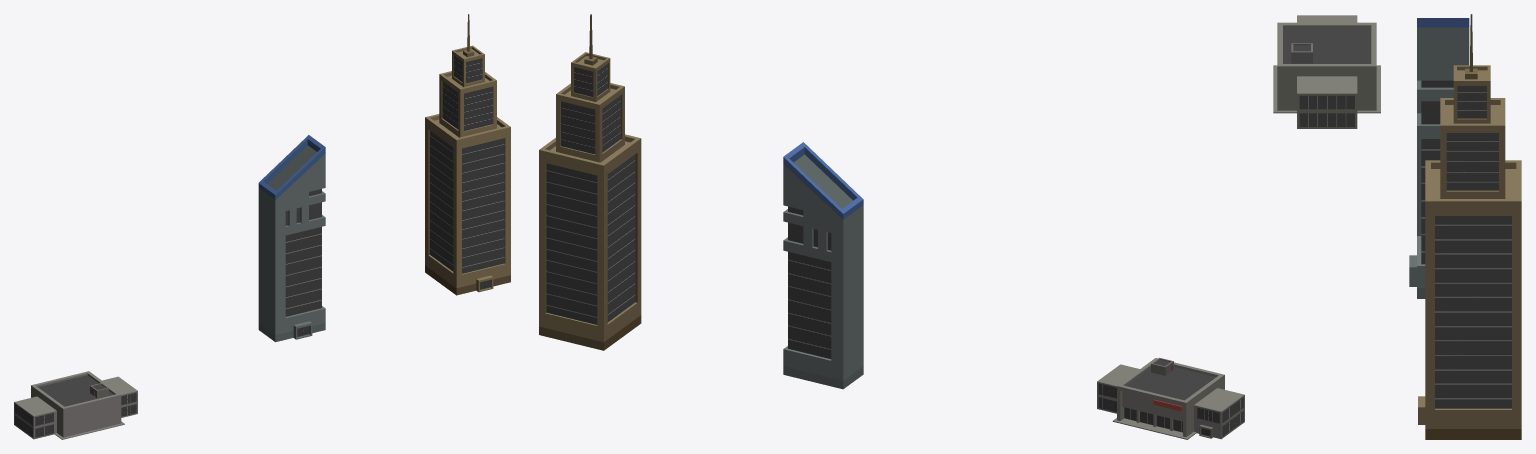
The model's file is Metropolis 2_subset.FBX.
3 renders of one model, left to right at view 1: azimuth 30°, elevation 25°; view 2: azimuth 150°, elevation 25°; view 3: azimuth 270°, elevation 25°, orthographic. The views are drawn at different scales.
Parts seen in each view (by area): view 1: SC_Bld_03_Brown (1), SC_Bld_18_Dark, SC_Bld_13_Dark; view 2: SC_Bld_03_Brown (1), SC_Bld_18_Dark, SC_Bld_13_Dark; view 3: SC_Bld_03_Brown (1), SC_Bld_13_Dark, SC_Bld_18_Dark.
Part boxes in pixels (x1,y1,x2,y2): SC_Bld_03_Brown (1): (425,14,510,295); SC_Bld_18_Dark: (258,135,325,342); SC_Bld_13_Dark: (14,371,137,439); SC_Bld_03_Brown (1): (539,14,641,350); SC_Bld_18_Dark: (783,142,863,389); SC_Bld_13_Dark: (1097,357,1244,439); SC_Bld_03_Brown (1): (1418,14,1521,439); SC_Bld_13_Dark: (1273,15,1380,128); SC_Bld_18_Dark: (1409,18,1469,298).
Size of the model in its own units: 120623 by 58568 by 32553.
1 material, 1 textured.
